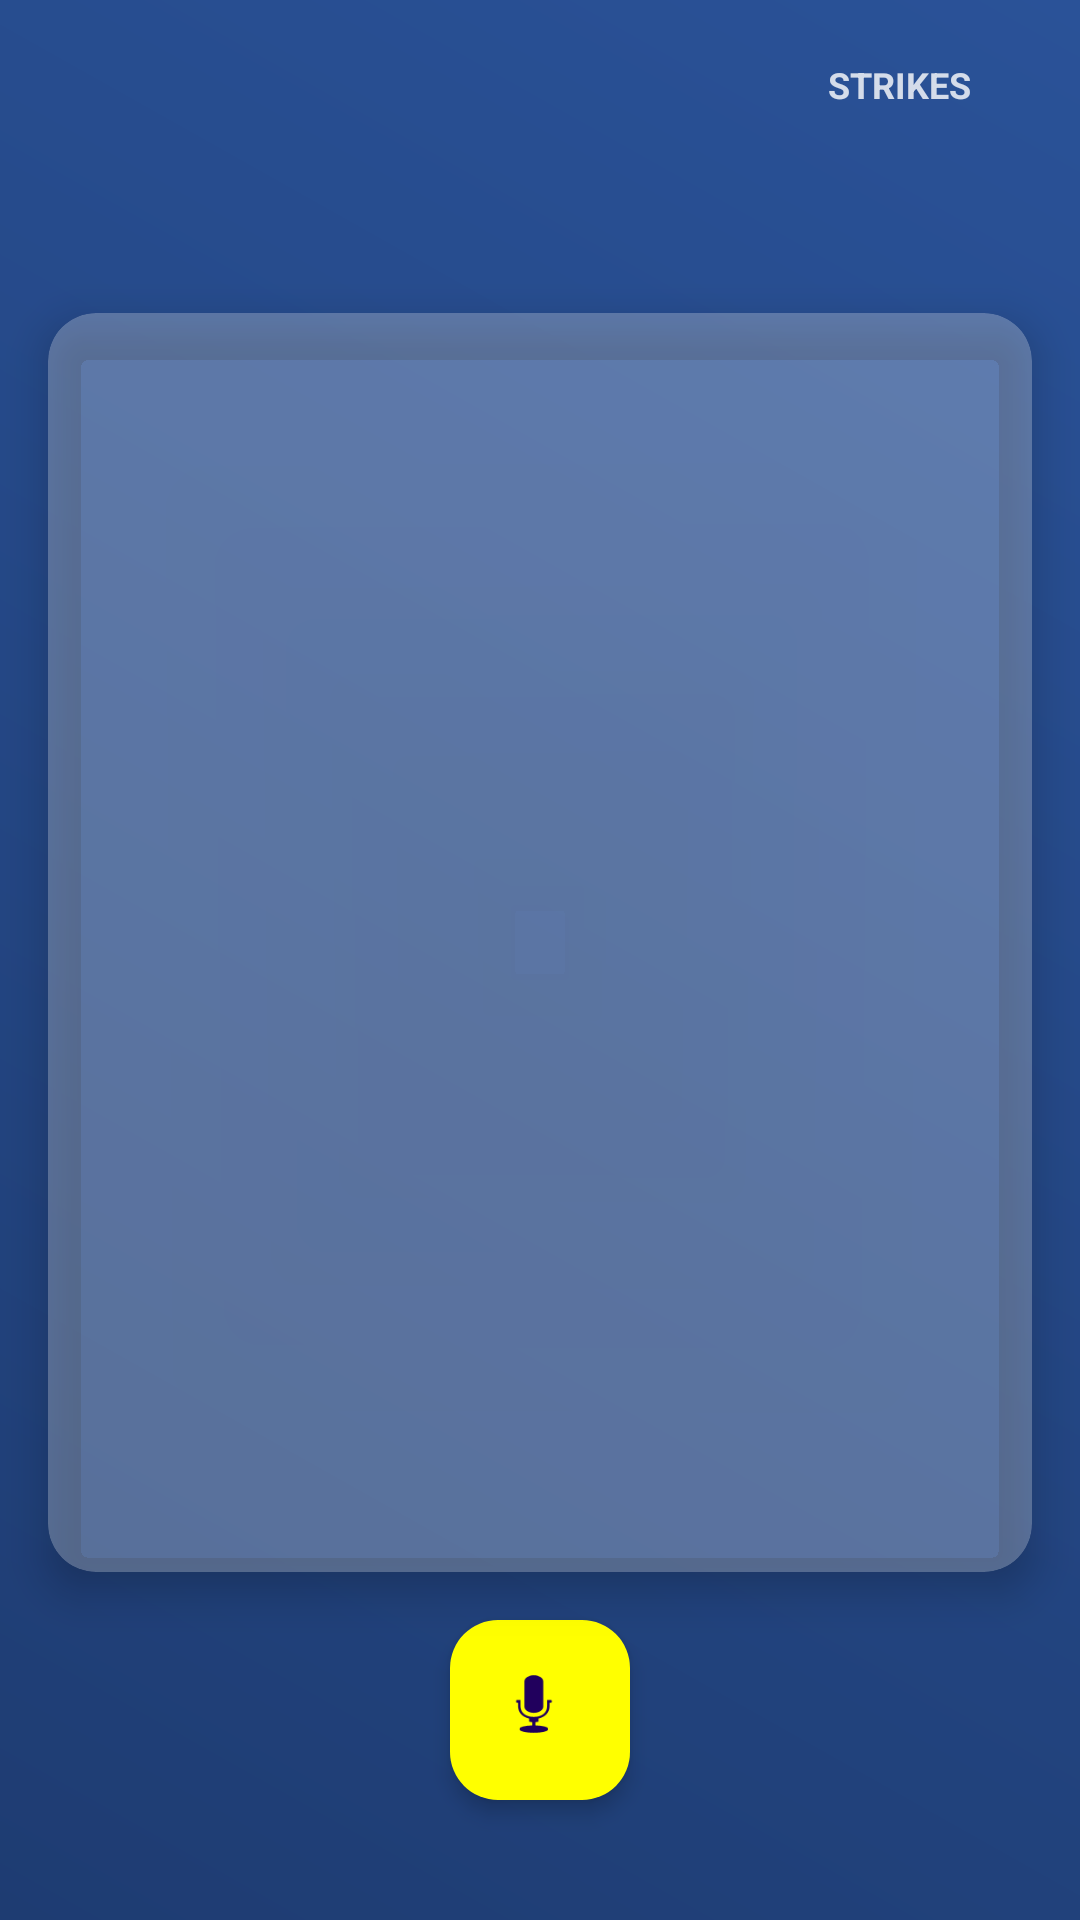

Point at icon controls on the screen. Image size 1080×1920, points as (x=x, y=y).
speak now: (x=540, y=1710)
